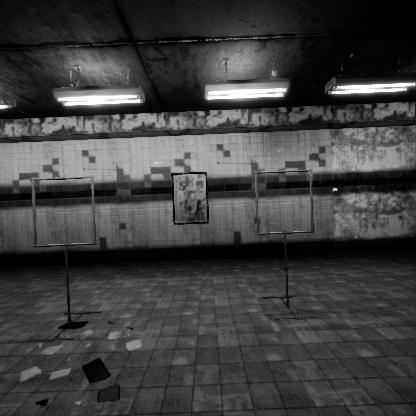gate: (32, 167, 102, 240), (254, 180, 319, 247)
